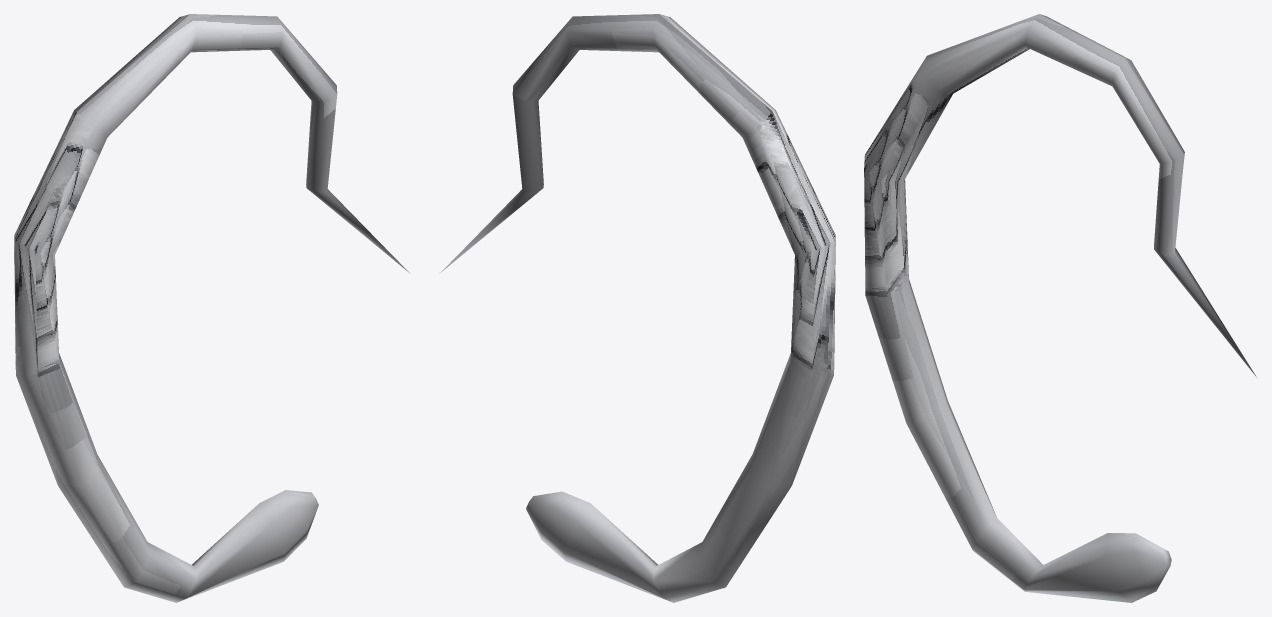
File: snake_000040.obj
3 views of the same model, side by side, from view 1: azimuth 30°, elevation 25°; view 2: azimuth 150°, elevation 25°; view 3: azimuth 330°, elevation 25° (orthographic).
Visible parts, largest first — view 1: Cylinder; view 2: Cylinder; view 3: Cylinder.
Part boxes in pixels (x1,y1,x2,y2): Cylinder: (14,14,410,602); Cylinder: (439,14,835,602); Cylinder: (864,14,1256,602).
Size of the model in its own units: 3.76 by 5.31 by 0.3671.
